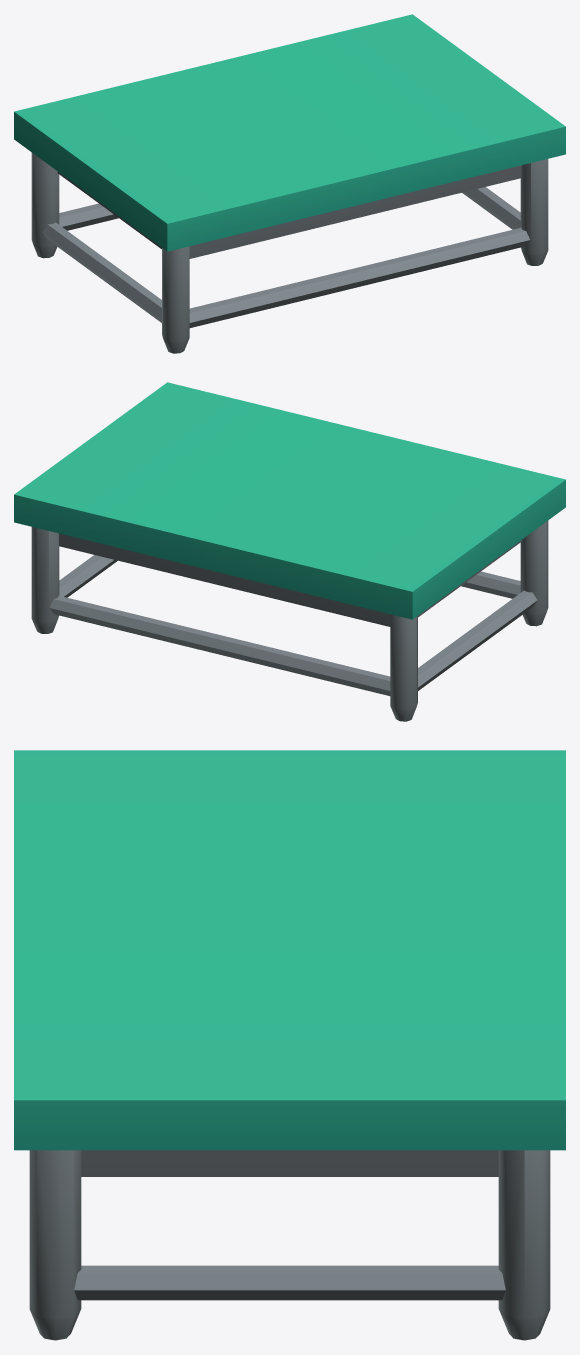
File: kay-mesa-cozinha-b.gltf
3 renders of one model, top to bottom at view 1: azimuth 30°, elevation 25°; view 2: azimuth 150°, elevation 25°; view 3: azimuth 270°, elevation 25°, orthographic. The views are drawn at different scales.
Visible parts, largest first — view 1: kitchentable_B_large; view 2: kitchentable_B_large; view 3: kitchentable_B_large.
Part boxes in pixels (x1,y1,x2,y2): kitchentable_B_large: (14,14,565,353); kitchentable_B_large: (14,382,565,721); kitchentable_B_large: (14,750,565,1340).
Size of the model in its own units: 1.95 by 0.6525 by 1.3.
1 material, 1 textured.
